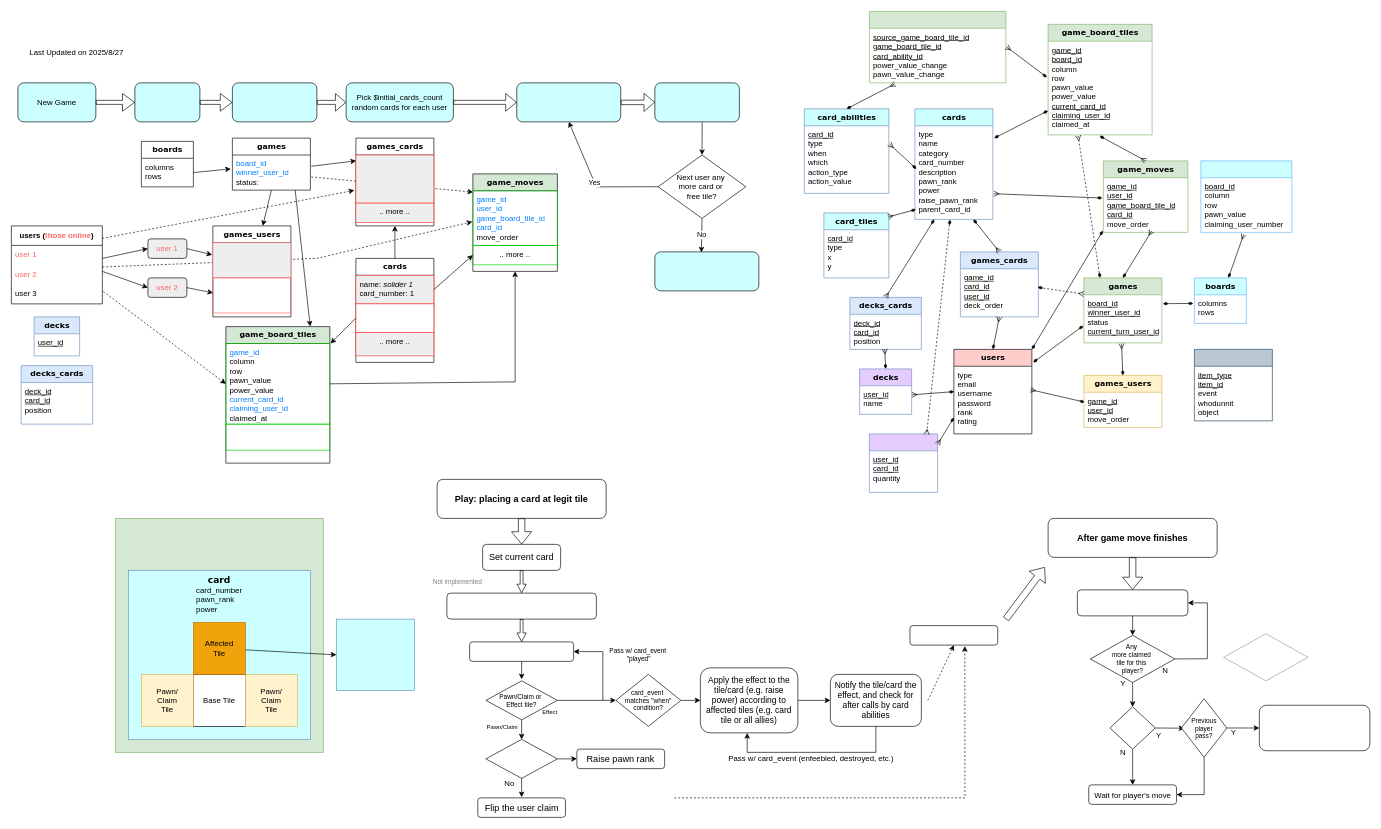
Image size: 1381x829. Some labels were removed from this diagram. The shapes that lost their labels are listed below. From the top down, each one's box as (x1, y1, x2, y2) in pixels, then its label:
(869, 11, 1006, 83): game_board_tiles_abilities
(134, 82, 200, 122): Pick Board
(232, 82, 317, 122): Create Game, GameUsers, GameBoardTiles
(516, 82, 621, 122): Next user picks a card and places at GameBoardTitle; creates GameMove
(654, 82, 739, 122): Apply after effects of GameBoardTitle
(355, 154, 434, 203): game_id card_id user_id deck_order: [1 .. ]
(1200, 160, 1292, 232): board_tiles
(212, 242, 291, 278): game_id user_id: 1 move_order: 0
(654, 251, 759, 291): Creates GameMove; ends game; calculates both sides' scores & determines winner
(212, 277, 291, 313): game_id user_id : 2 move_order: 1
(355, 303, 434, 332): name: Cactuar card_number: 52
(1194, 349, 1272, 421): versions
(225, 423, 330, 450): .. as many as $board.rows * $board.columns ..
(869, 433, 938, 492): users_cards
(446, 592, 596, 619): Check card's immediate abilities (w/o tile, e.g. fill empty tiles)
(1077, 589, 1188, 616): Switch to Next Player
(115, 518, 323, 752): game_board_tile card_number pawn_rank power
(336, 618, 414, 691): card_ability type when which action_type action_value
(469, 641, 574, 661): Check card tiles
(909, 625, 998, 645): Render UI Changes
(1223, 633, 1308, 681): Any replacement card left for this player?
(1109, 706, 1155, 749): Player pass?
(1259, 705, 1370, 751): Calculate total scores of winning lanes. Determine who's the winner
(485, 739, 557, 778): User already claimed this tile?
